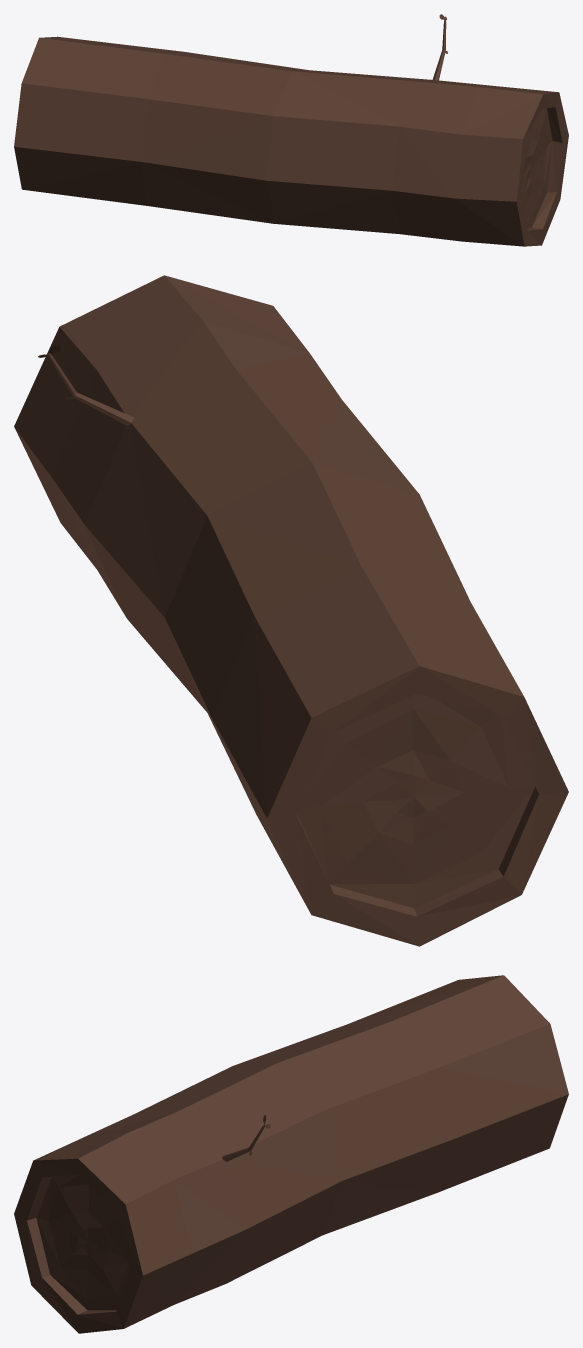
Rendered from log.glb.
3 views of the same model, one above another, from view 1: azimuth 30°, elevation 25°; view 2: azimuth 150°, elevation 25°; view 3: azimuth 270°, elevation 25° (orthographic). The views are drawn at different scales.
Visible parts, largest first — view 1: log; view 2: log; view 3: log.
Boxes of the visible parts, x1=… form: log: x1=14, y1=14, x2=568, y2=246; log: x1=14, y1=275, x2=568, y2=946; log: x1=14, y1=975, x2=568, y2=1333.
Size of the model in its own units: 0.9769 by 0.3872 by 0.9438.
